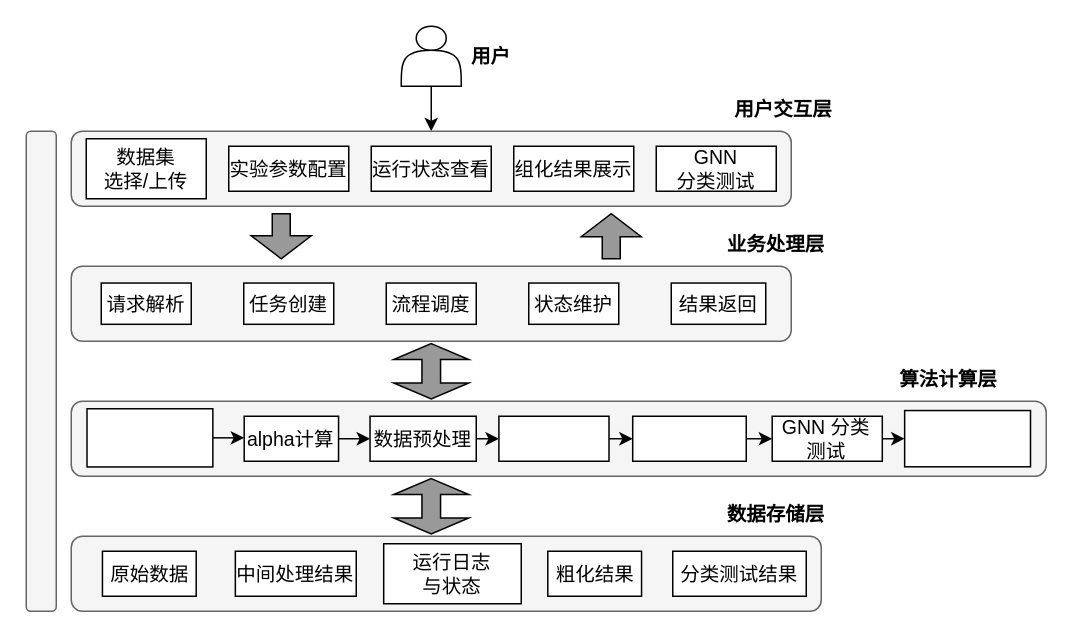
The diagram is 1073 pixels wide and 638 high, and some of its shapes have lost their labels. Here are the shapes that lost their labels. From the top down, the box of each, then its label:
(25, 130, 56, 611): 数据安全管理
(86, 407, 213, 467): 数据分析 与清理
(497, 415, 609, 461): Bin Width 标定
(631, 415, 746, 461): UGC 图粗化
(903, 409, 1030, 467): 谱性质与 标签纯度计算
